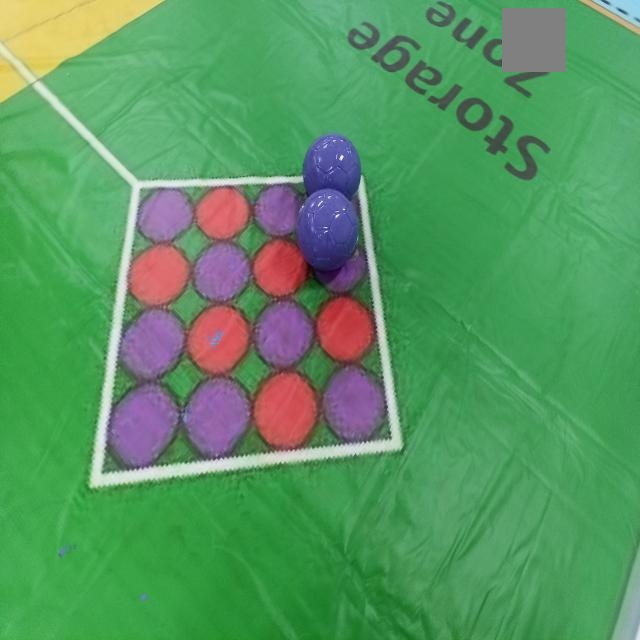purple_ball: (298, 188, 357, 271), (303, 134, 362, 202)
